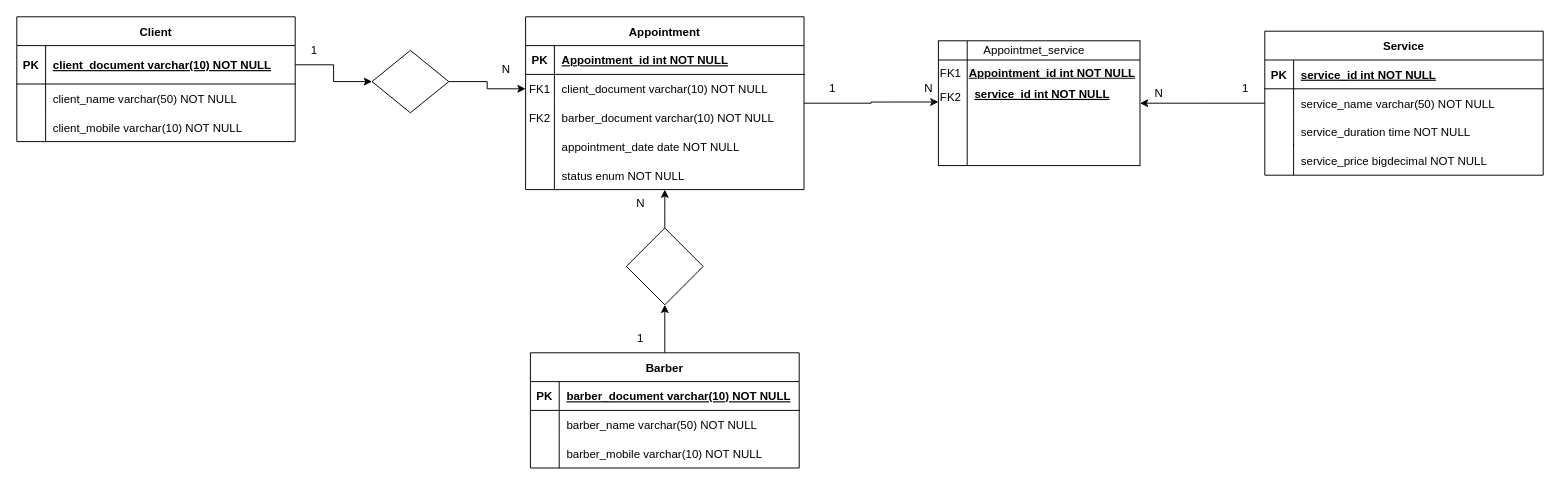
Image size: 1560x485. Some labels were removed from this diagram. Each missing label, with the centre of its shape:
attends: (x=664, y=266)
schedules: (x=410, y=81)
